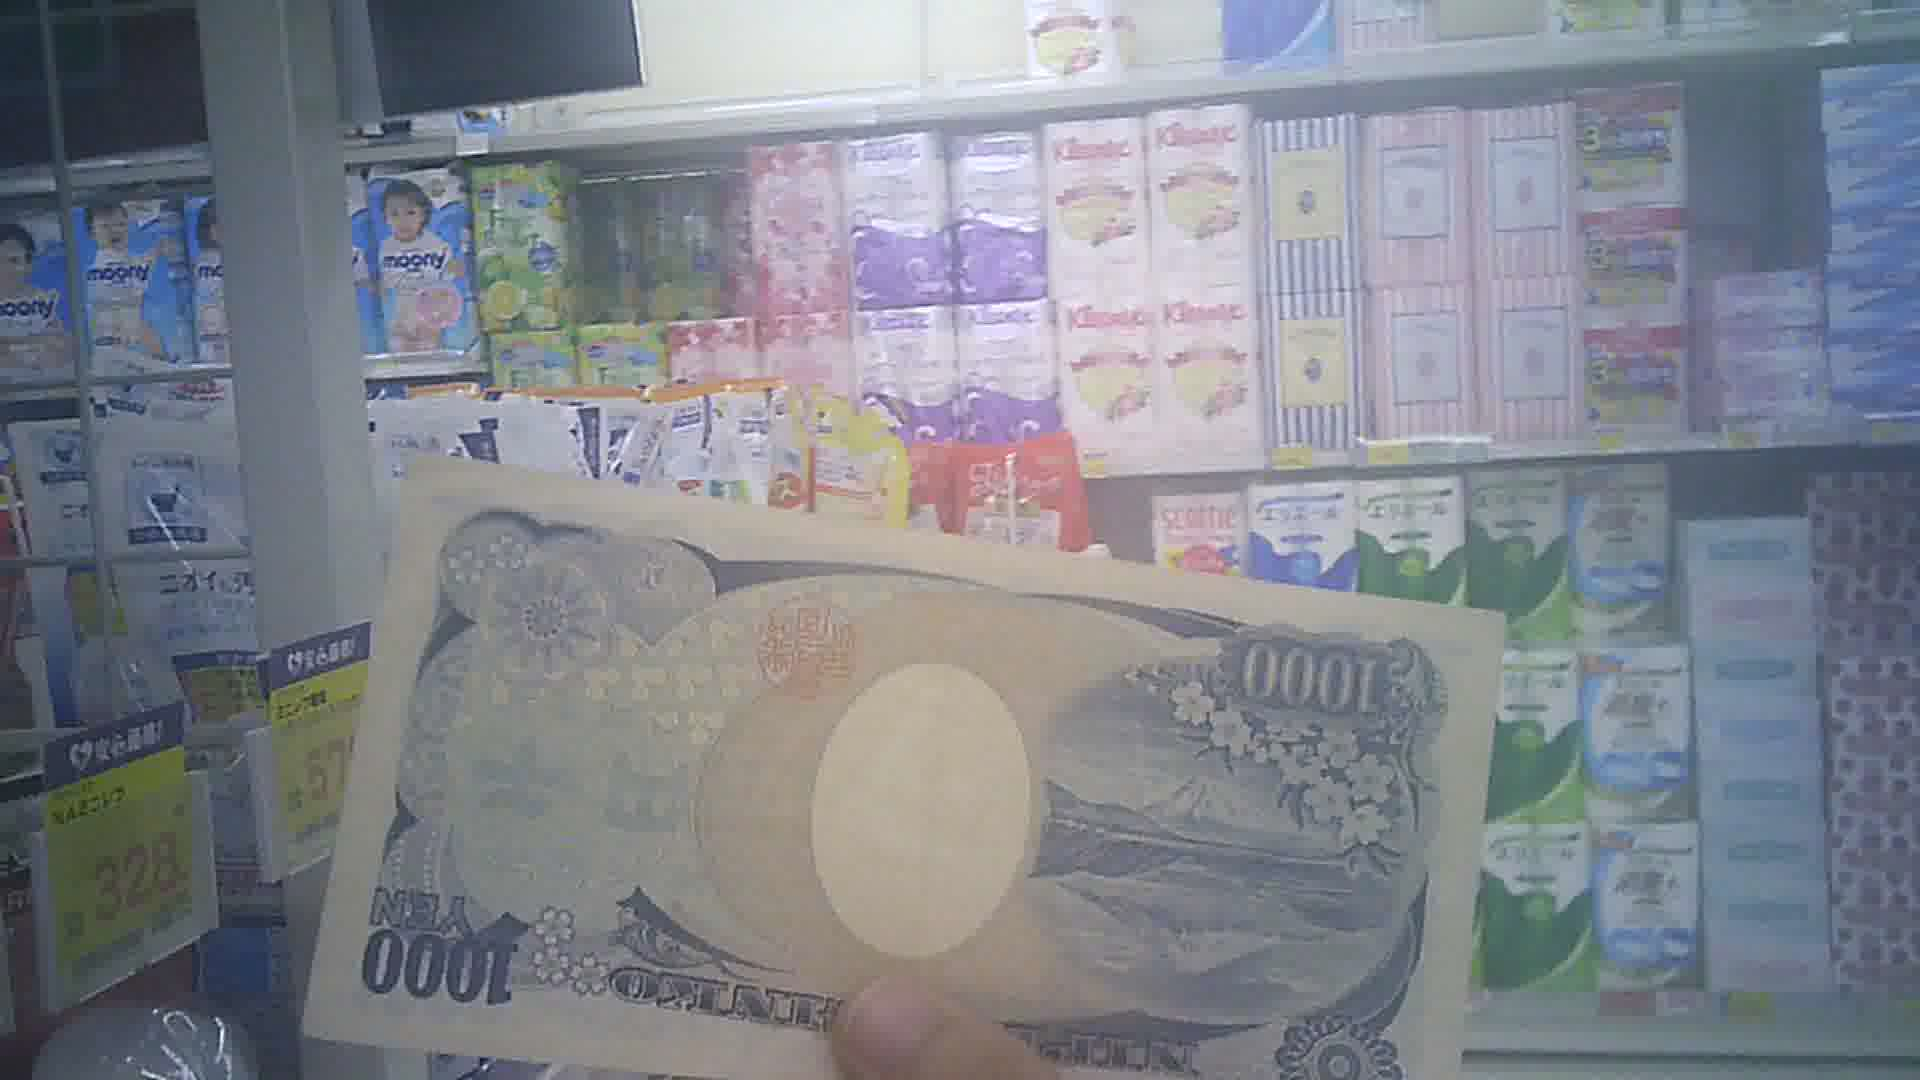1,000 Yen: (310, 433, 1468, 1079)
